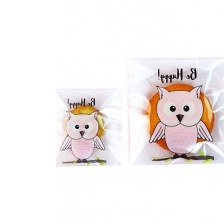snack: (123, 49, 224, 171), (50, 82, 123, 171)
